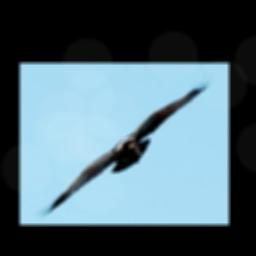Crow: (32, 68, 216, 219)
